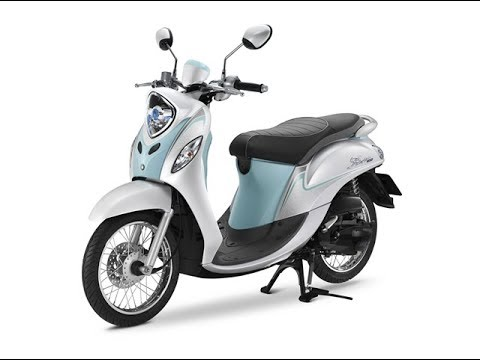motorcycle: (81, 55, 391, 323)
